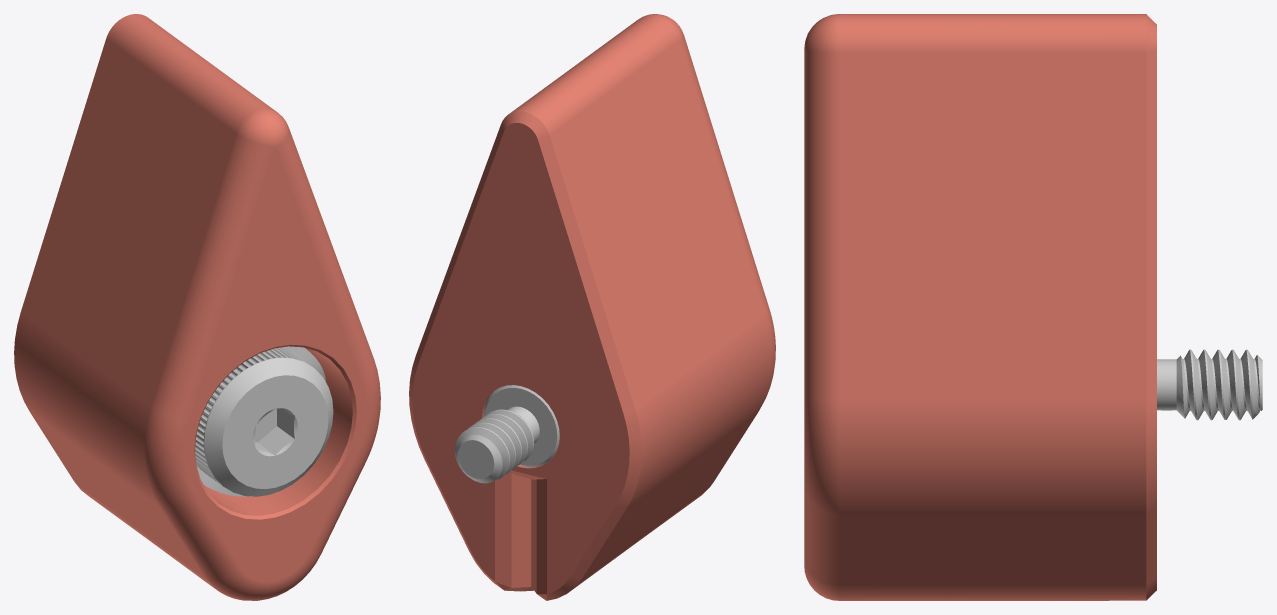
File: Detent_Knob.glb
3 renders of one model, left to right at view 1: azimuth 30°, elevation 25°; view 2: azimuth 150°, elevation 25°; view 3: azimuth 270°, elevation 25°, orthographic. The views are drawn at different scales.
Bounding box in the file's own units: 0.009 × 0.018 × 0.013.
